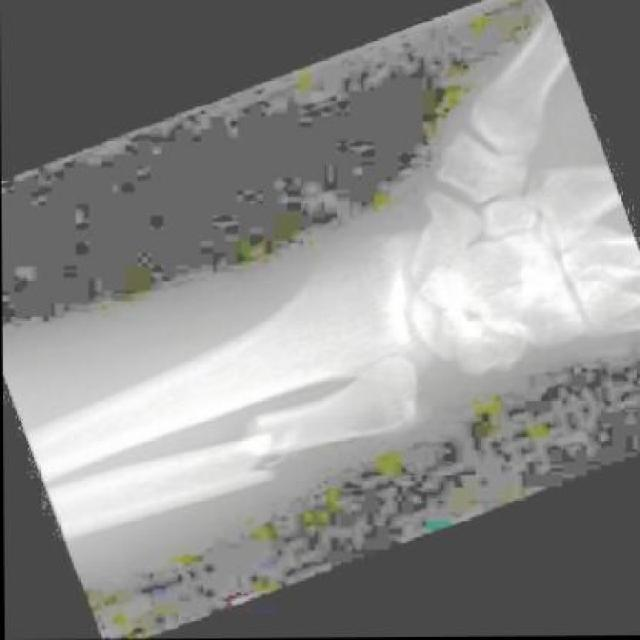Fracture: (214, 397, 307, 498)
